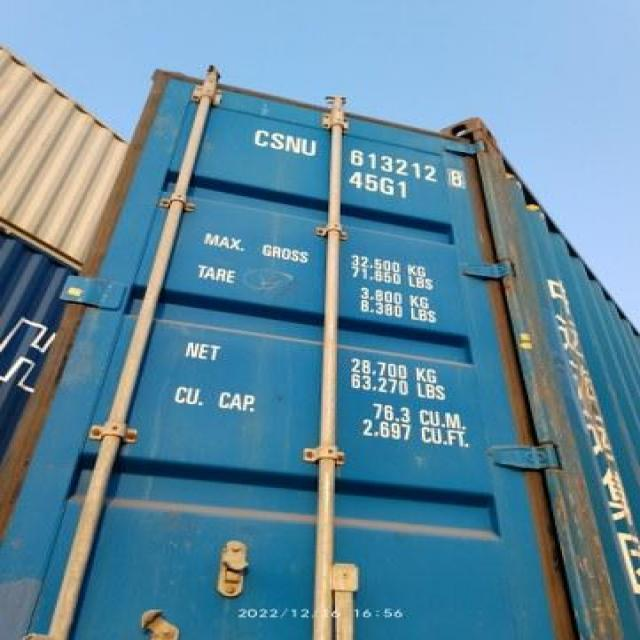ISO: (348, 174, 409, 198)
container_number: (247, 114, 466, 186)
